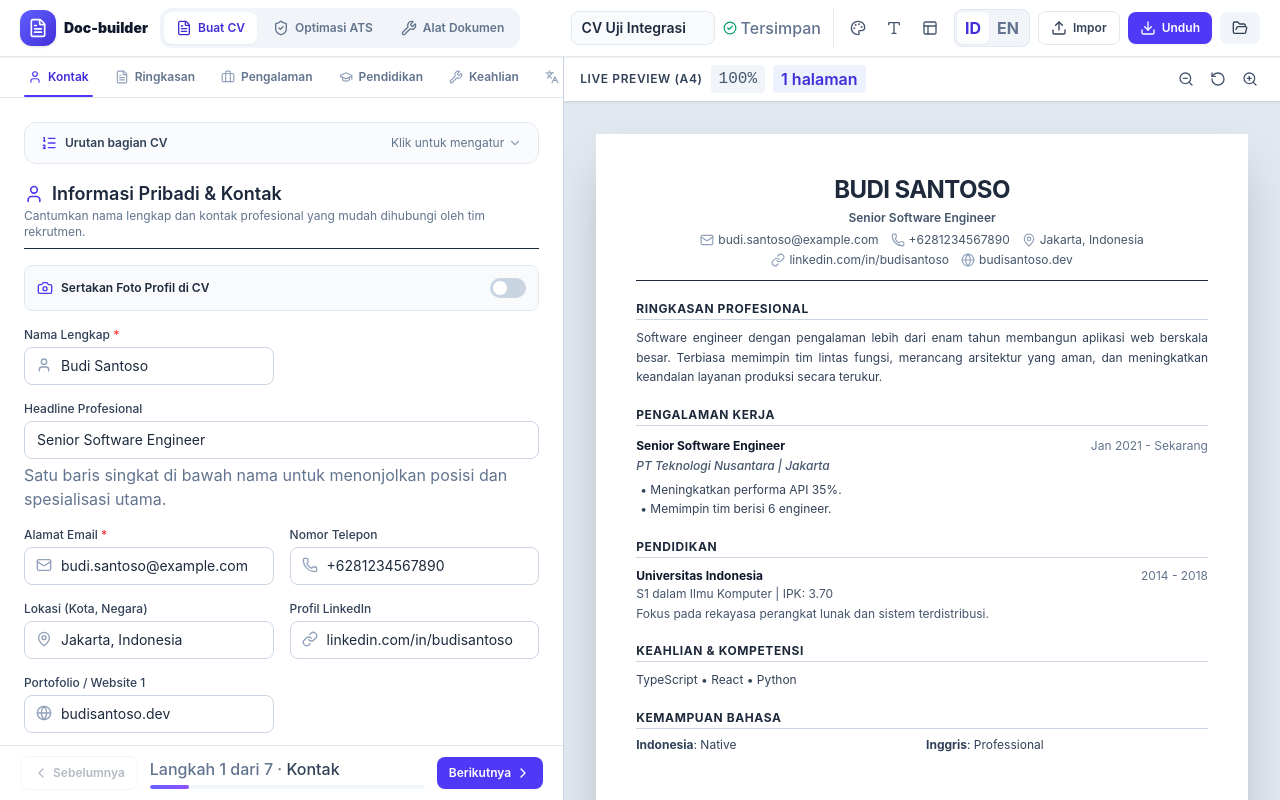
it: App integration › membuka modal preflight dan mengekspor PDF dengan nama berkas yang dapat diedit
Expected: the field with test id "input-draft-title" holds "CV Uji Integrasi", [571, 11, 715, 45]
Click the button with test id "btn-export-menu" at [1170, 28], box [1128, 12, 1212, 44]
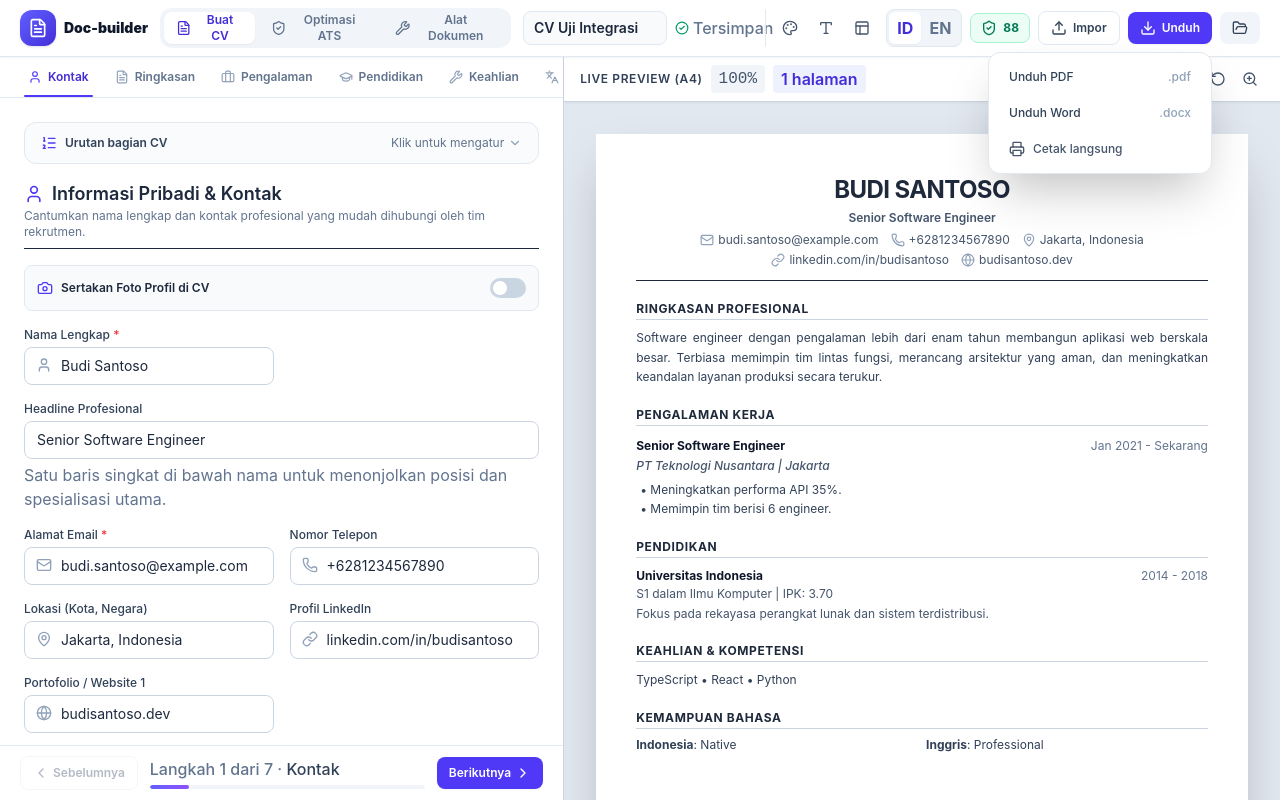
Click the button with test id "btn-export-pdf" at [1100, 77], box [997, 61, 1203, 93]
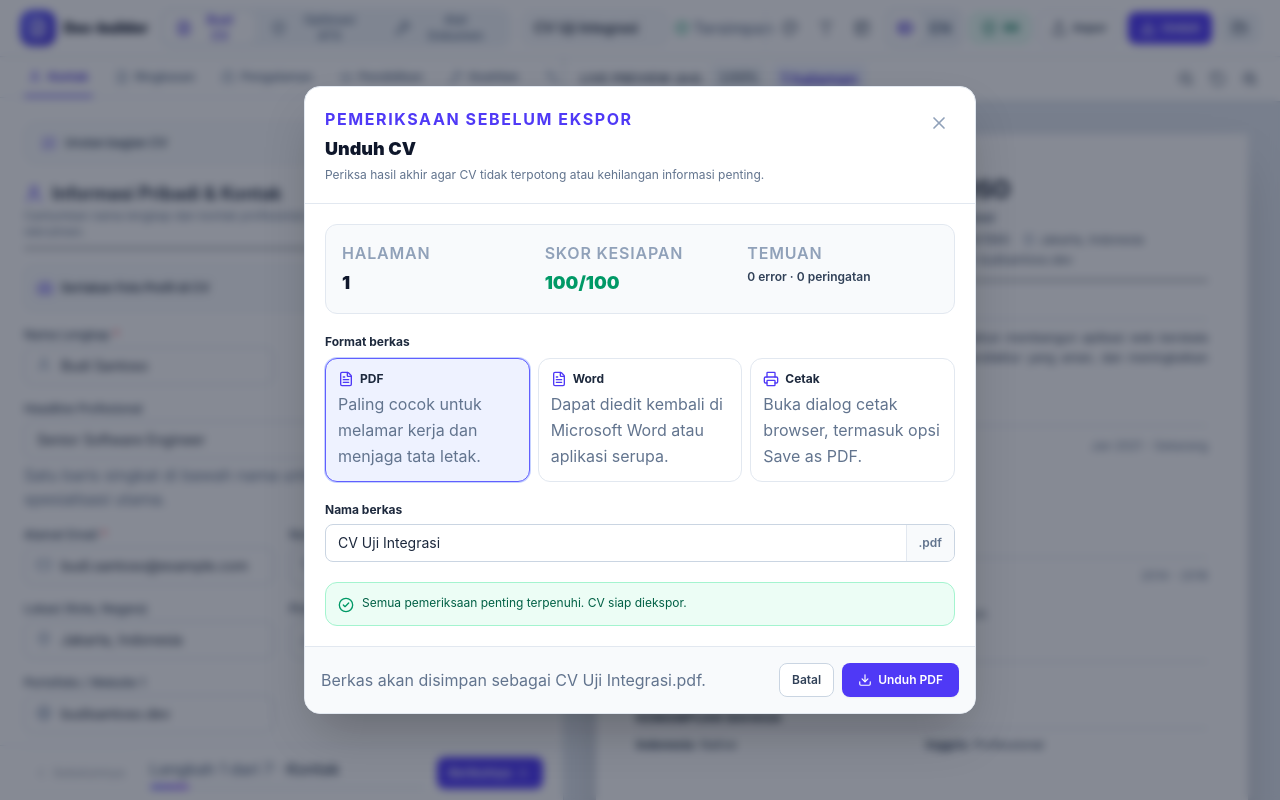
Now the element with test id "export-modal" is shown
Now the field with test id "input-export-filename" holds "CV Uji Integrasi"
Replace the text in the field with test id "input-export-filename" with "CV Budi - Backend 2026" at [616, 543], box [326, 525, 906, 561]
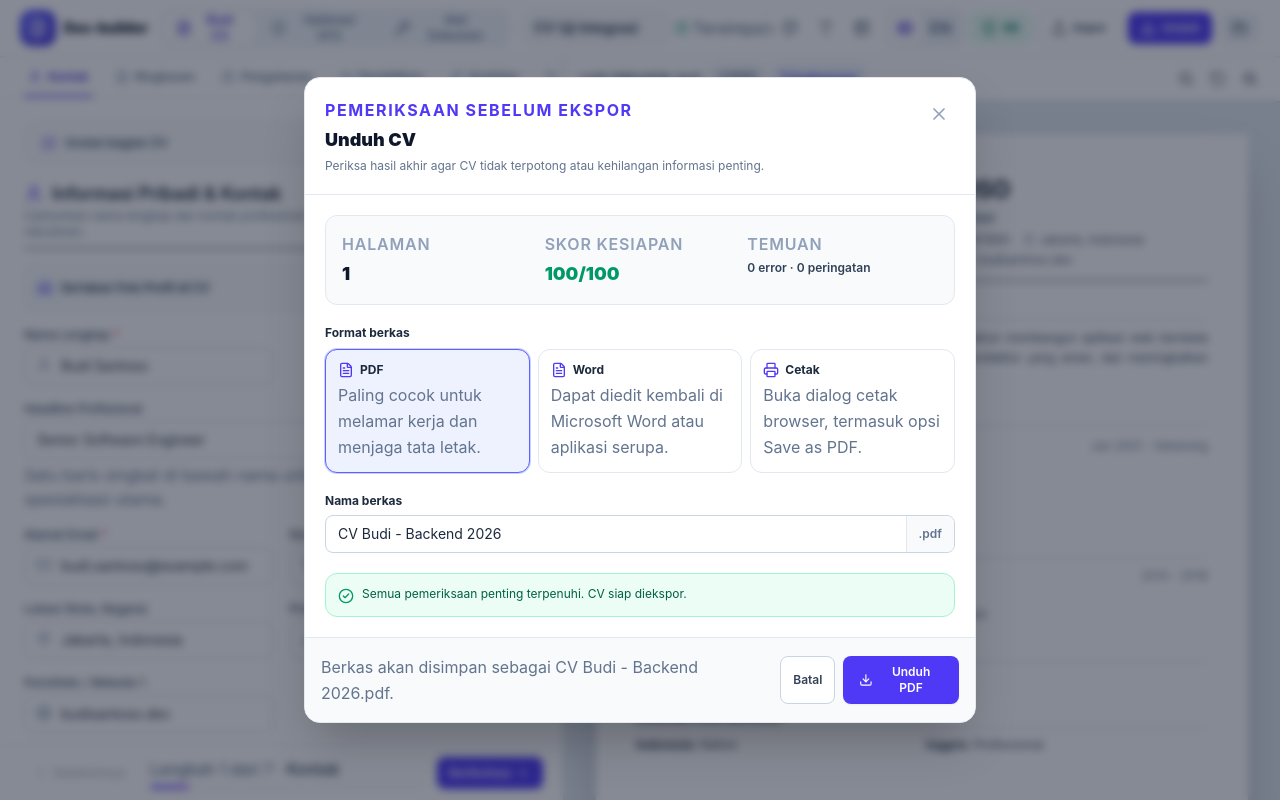
Click the button with test id "btn-confirm-export" at [901, 680], box [843, 656, 959, 704]
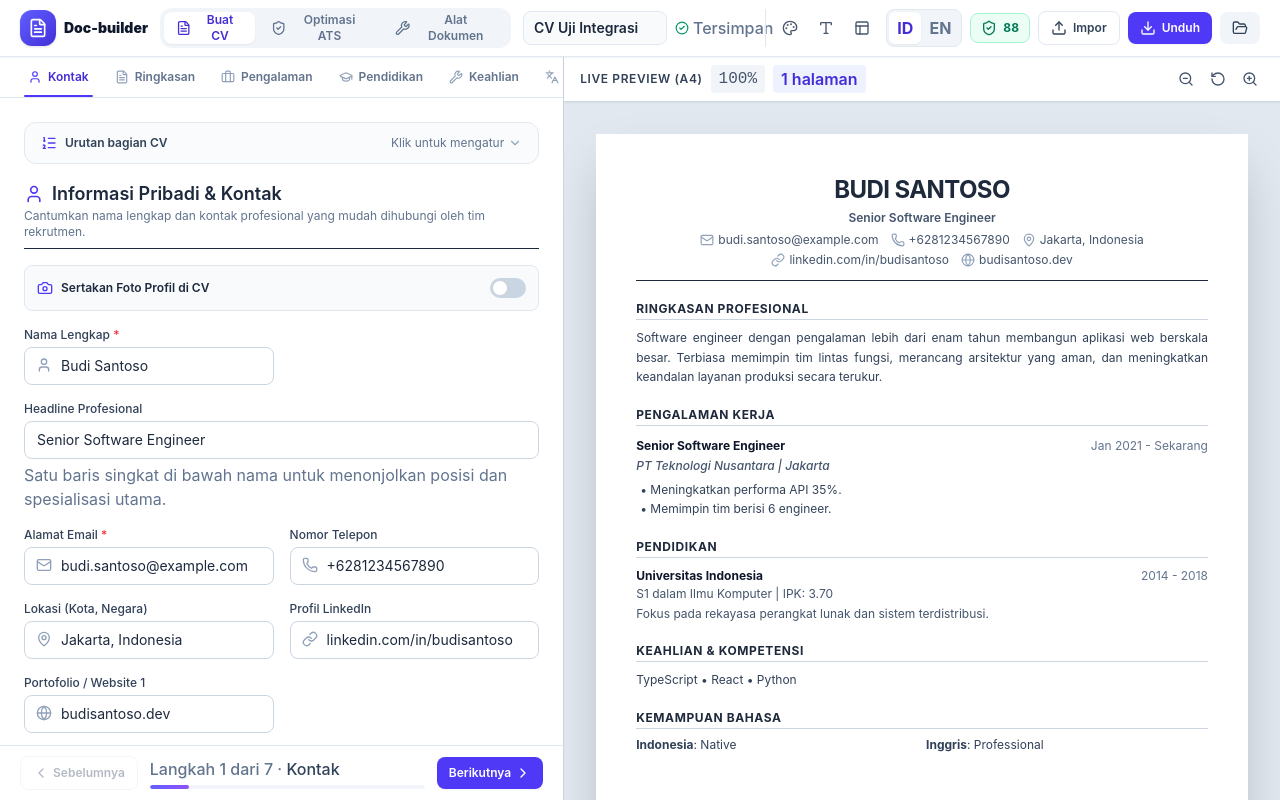
Now the element with test id "export-modal" is gone
